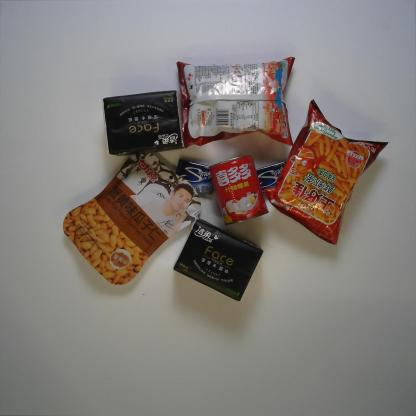Canned Food: (209, 154, 269, 225)
Dried Fruit: (62, 150, 202, 285)
Gum: (176, 158, 222, 196), (255, 161, 292, 198)
Puffed Food: (263, 98, 390, 245), (176, 56, 296, 147)
Tissue: (173, 218, 264, 302), (102, 90, 186, 156)
